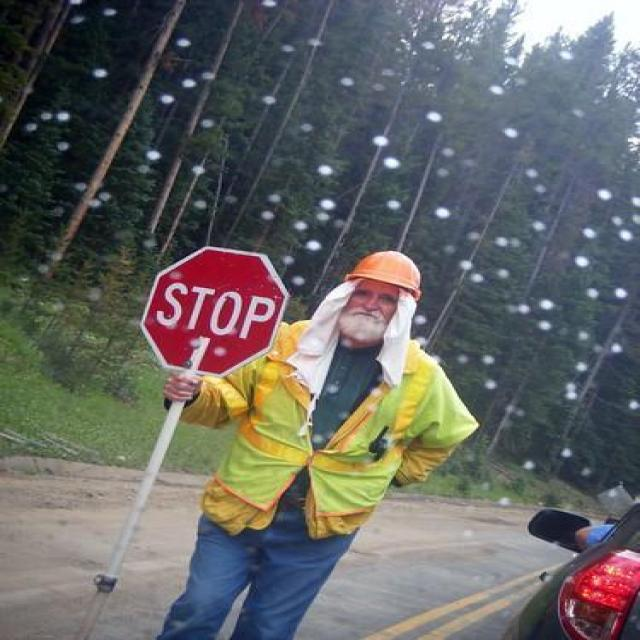Vest: (178, 314, 476, 534)
